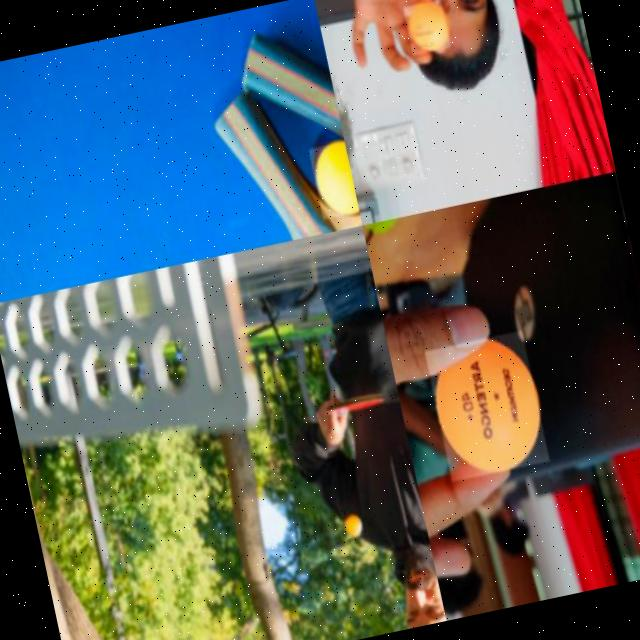ping-pong-ball: (424, 329, 550, 481), (307, 138, 358, 220), (402, 0, 452, 54), (342, 515, 362, 539)
